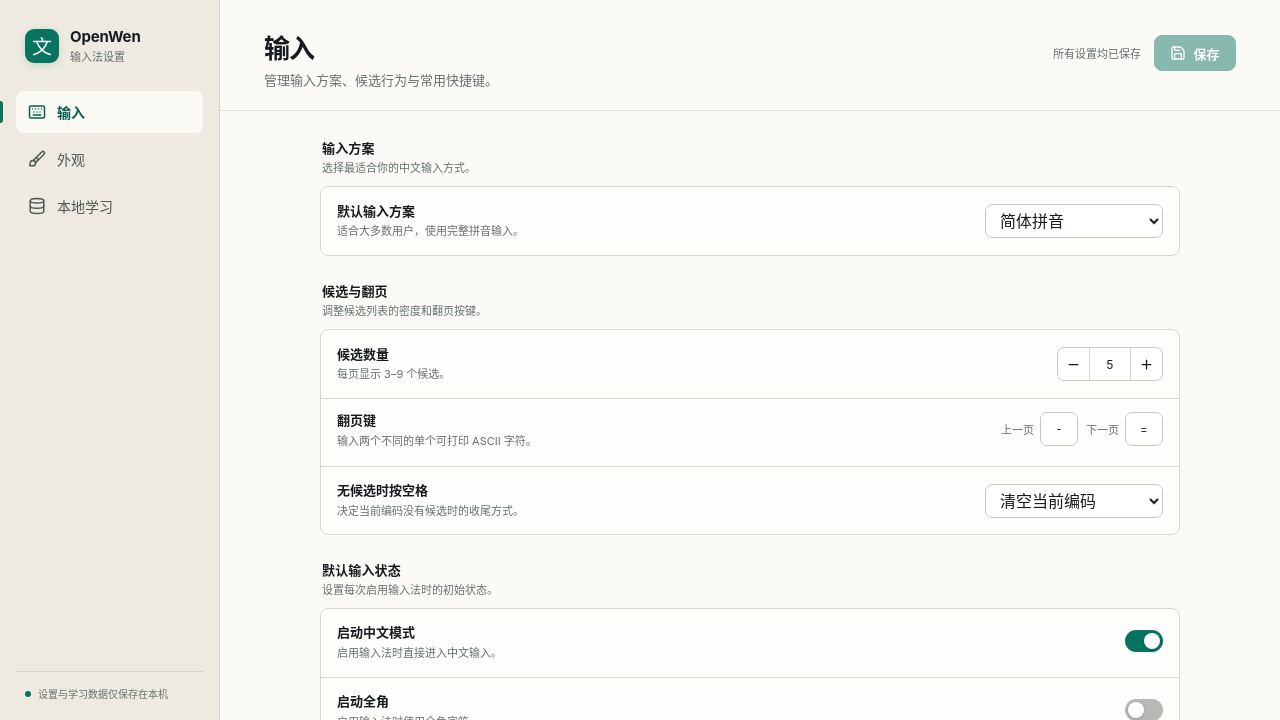
Scenario: OpenWen 三页设置中心 › 本地学习说明明确本机边界，关闭不删除已有数据
Click the button "本地学习" at coordinates (110, 206), box [16,185,203,227]
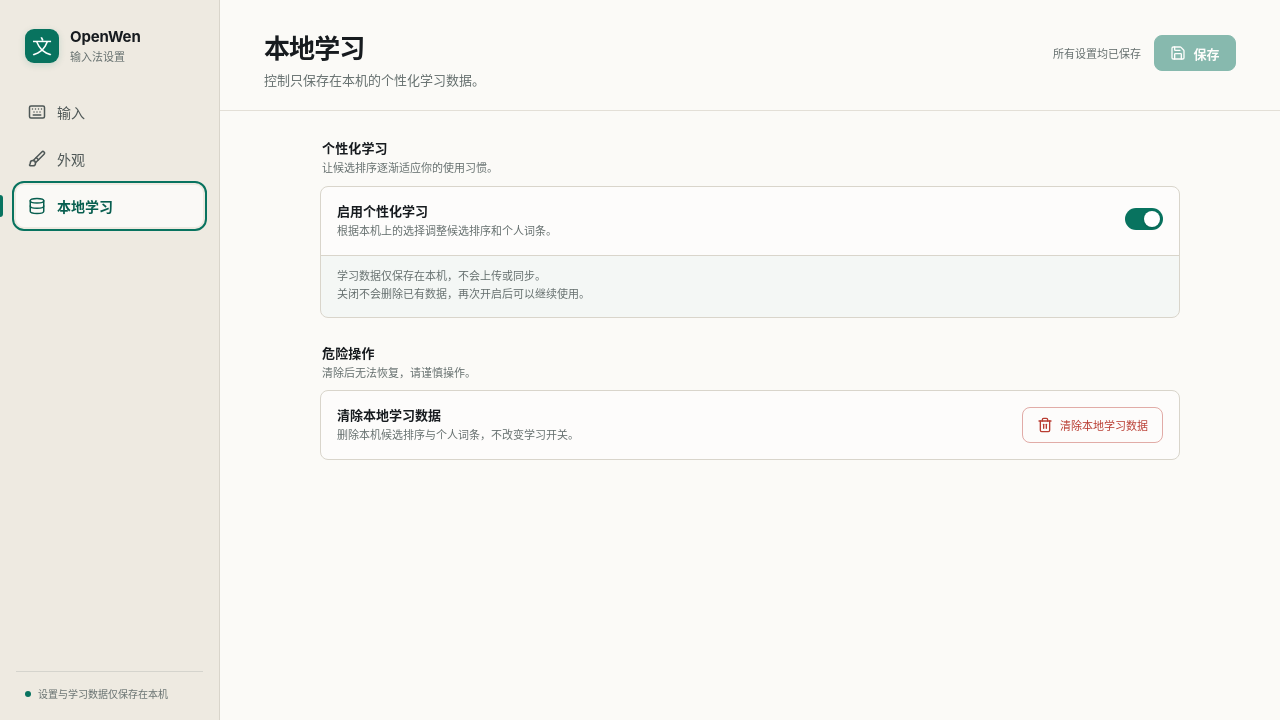
Expected: the text "设置与学习数据仅保存在本机" is shown, [16,670,203,701]
Expected: the text "学习数据仅保存在本机，不会上传或同步。" is shown, [337,269,546,283]
Expected: the text "关闭不会删除已有数据，再次开启后可以继续使用。" is shown, [337,287,590,301]
